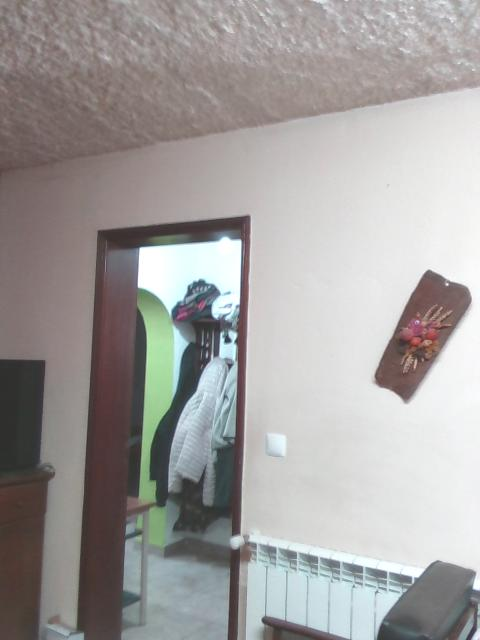open_door: (76, 213, 253, 639)
